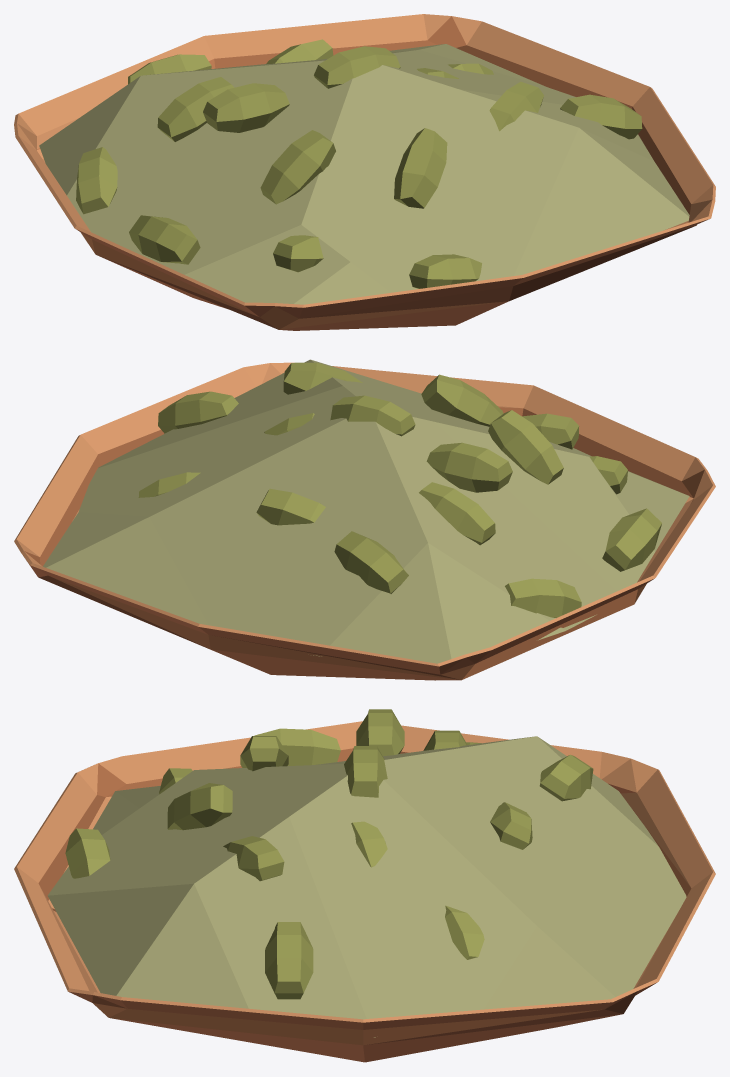
Rendered from RiceCooked.glb.
3 views of the same model, one above another, from view 1: azimuth 30°, elevation 25°; view 2: azimuth 150°, elevation 25°; view 3: azimuth 270°, elevation 25° (orthographic). The views are drawn at different scales.
Parts seen in each view (by area): view 1: FiredBowl; view 2: FiredBowl; view 3: FiredBowl.
Part boxes in pixels (box(x1,y1,x2,y2)): FiredBowl: box(14, 14, 715, 330); FiredBowl: box(14, 359, 715, 680); FiredBowl: box(14, 709, 715, 1062).
Bounding box in the file's own units: 0.2518 × 0.1041 × 0.2482.
